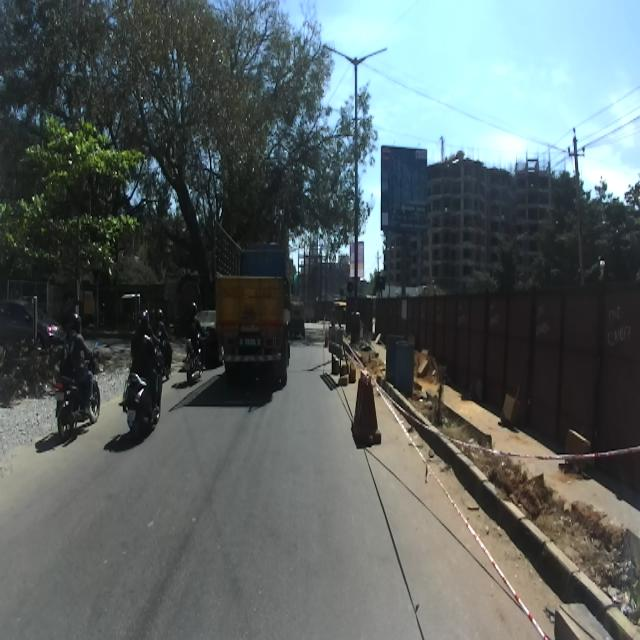barrier ahead at: (352, 365, 381, 455)
motorcycle ahead at: (53, 372, 103, 444), (118, 367, 162, 442)
truck ahead at: (212, 237, 294, 391)
